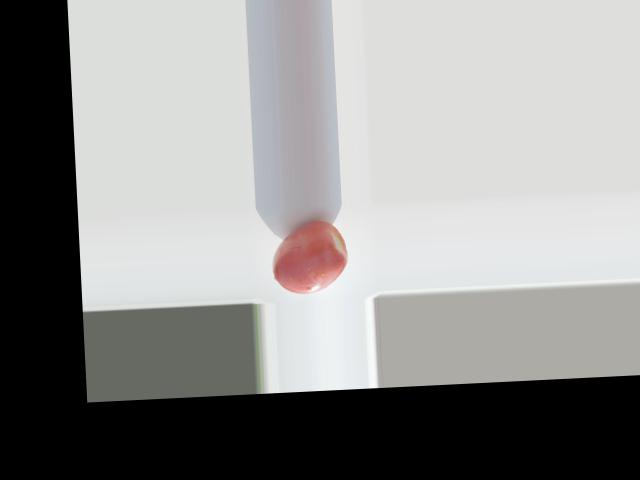tomato: (270, 220, 349, 295)
